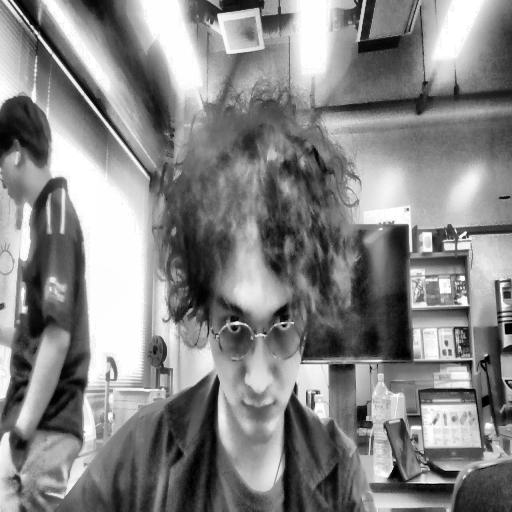Daifuku: (151, 118, 347, 445)
Not Daifuku: (1, 104, 59, 211)
